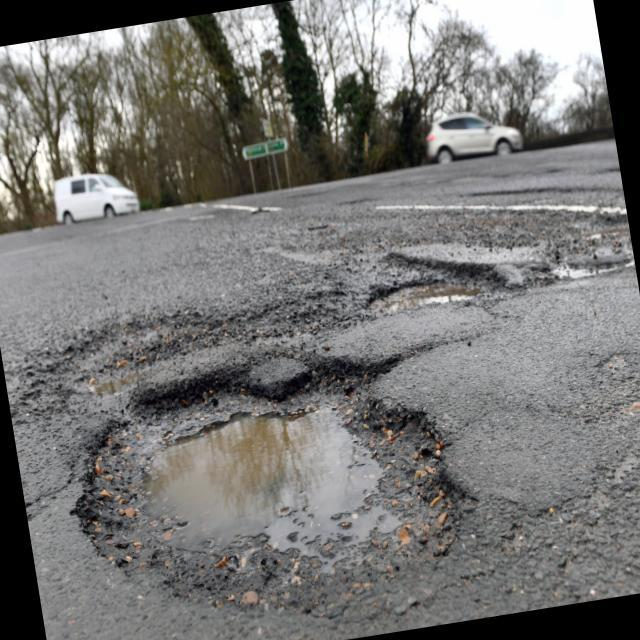Pothole: (48, 328, 486, 627), (12, 281, 300, 407), (355, 240, 529, 366), (526, 208, 638, 298)
